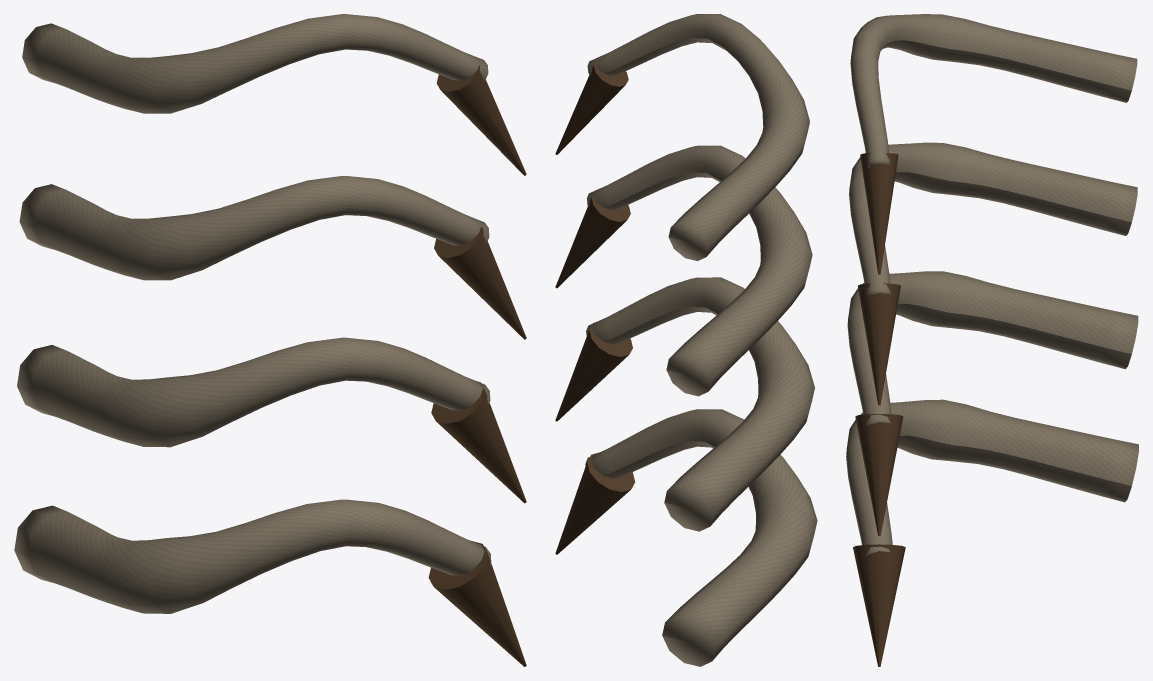
File: claw.glb
3 renders of one model, left to right at view 1: azimuth 30°, elevation 25°; view 2: azimuth 150°, elevation 25°; view 3: azimuth 270°, elevation 25°, orthographic. The views are drawn at different scales.
Visible parts, largest first — view 1: finger-0, finger-1, finger-2, finger-3, tip-0, tip-1, tip-2, tip-3; view 2: finger-0, finger-1, finger-2, finger-3, tip-0, tip-1, tip-2, tip-3; view 3: finger-0, finger-1, finger-3, finger-2, tip-0, tip-1, tip-2, tip-3.
Part boxes in pixels (<box>): finger-0: <box>14,499,491,613</box>; finger-1: <box>17,337,490,447</box>; finger-2: <box>19,176,489,280</box>; finger-3: <box>22,14,488,113</box>; tip-0: <box>428,540,526,666</box>; tip-1: <box>431,381,526,503</box>; tip-2: <box>434,226,526,339</box>; tip-3: <box>436,65,526,175</box>; finger-0: <box>585,409,817,666</box>; finger-1: <box>586,277,814,531</box>; finger-2: <box>586,145,812,396</box>; finger-3: <box>587,14,809,260</box>; tip-0: <box>555,452,635,554</box>; tip-1: <box>555,323,632,421</box>; tip-2: <box>555,193,630,288</box>; tip-3: <box>555,63,628,154</box>; finger-0: <box>846,399,1138,556</box>; finger-1: <box>847,271,1138,426</box>; finger-3: <box>850,14,1137,167</box>; finger-2: <box>849,142,1137,297</box>; tip-0: <box>853,544,905,666</box>; tip-1: <box>855,414,903,536</box>; tip-2: <box>858,283,900,405</box>; tip-3: <box>860,153,898,274</box>.
Bounding box in the file's own units: 0.2781 × 0.5155 × 0.2434.
Materials: 2 (1 with a texture image).
